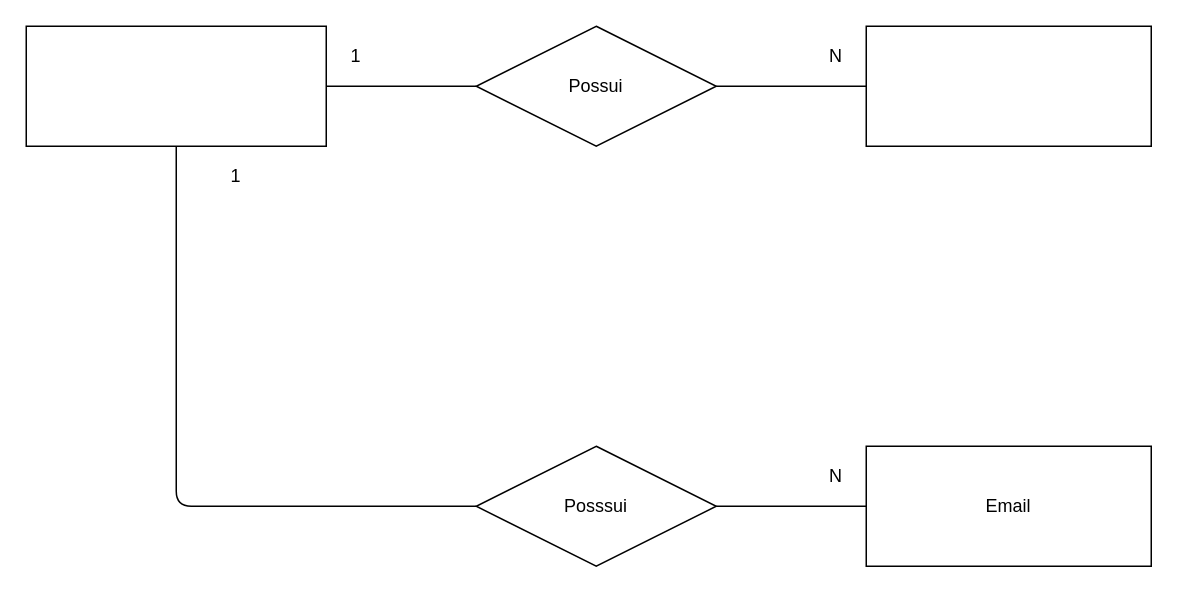
The diagram is 1178 pixels wide and 593 high, and some of its shapes have lost their labels. The shapes that lost their labels are listed below. From the top down, each one's box as (x1, y1, x2, y2) in pixels, then its label:
(25, 25, 326, 146): Pessoa
(865, 25, 1151, 146): Telefone
